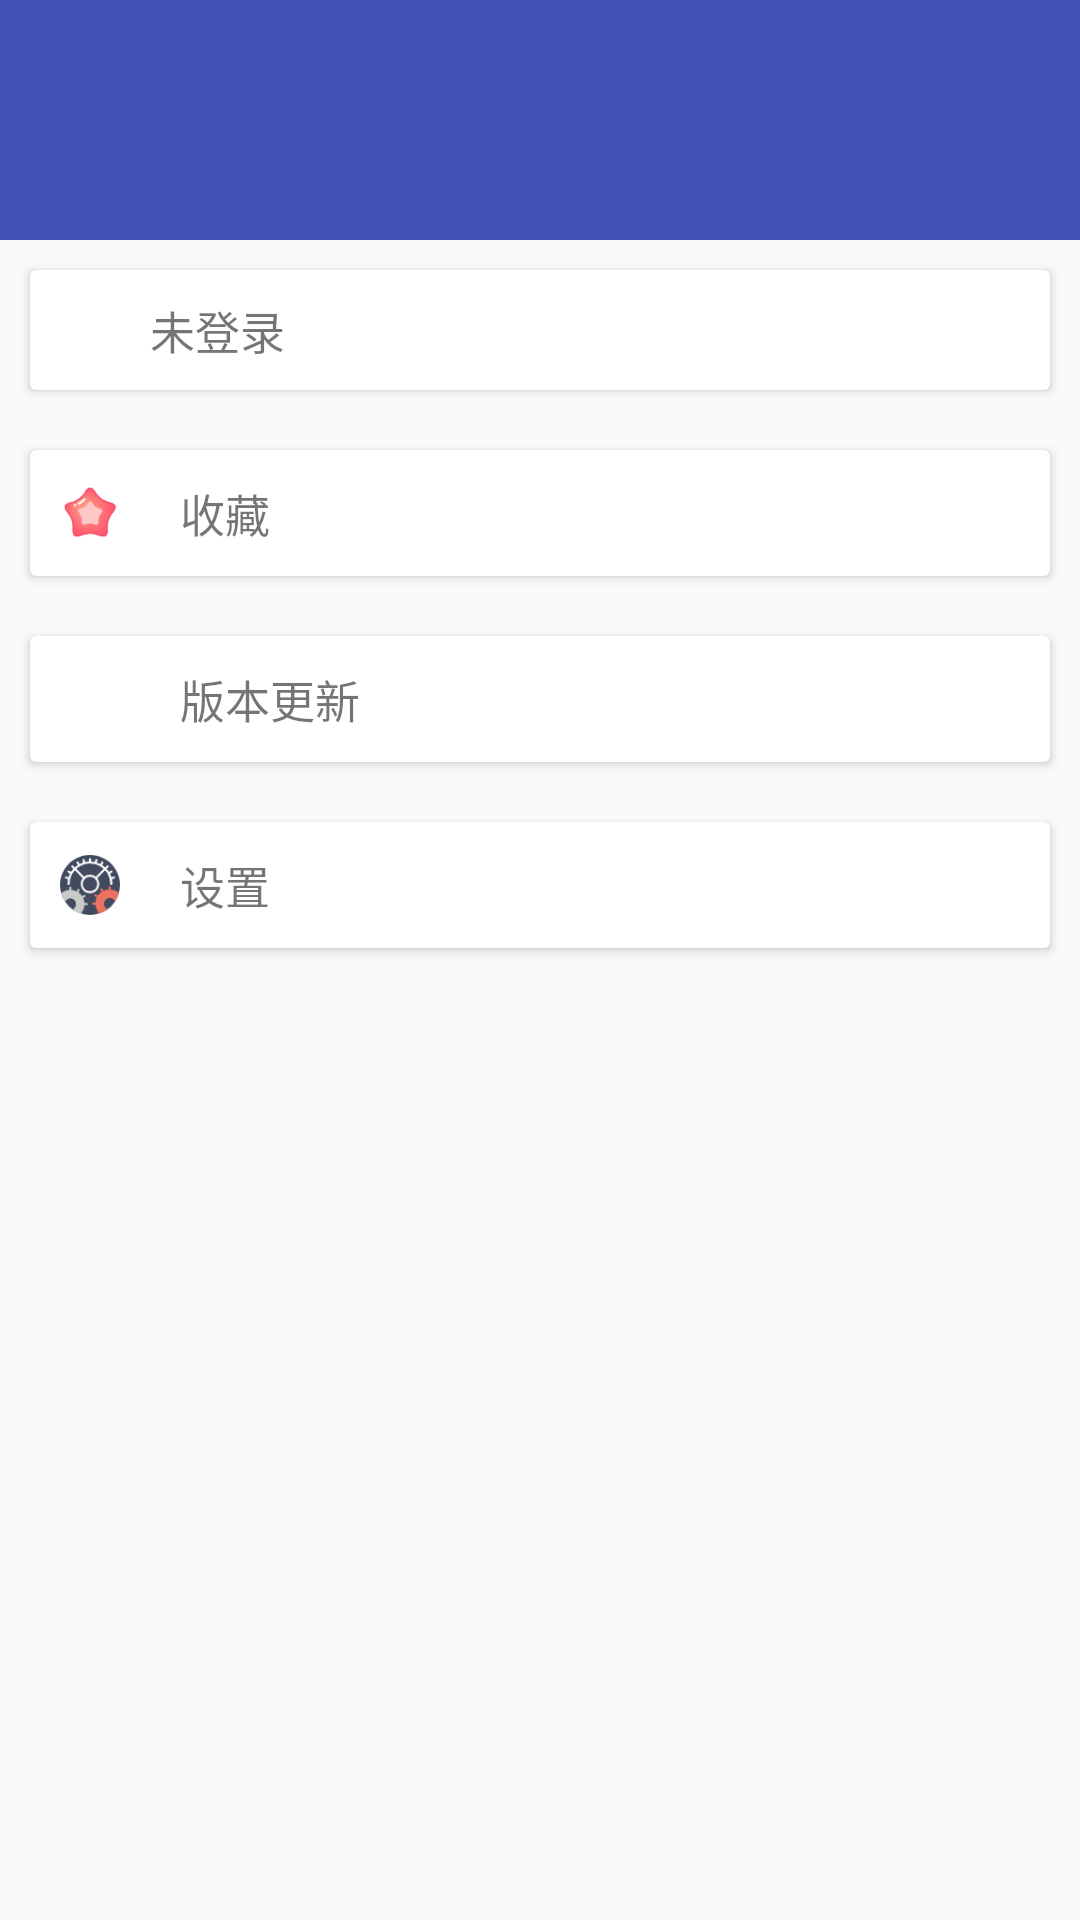

Locate icon controls on the screen. Image size 1080px×1920px, boxes as (x1, y1, x2, y2).
setting: (60, 855, 120, 915)
shoucang: (64, 487, 116, 537)
